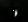person: (14, 8, 20, 19)
